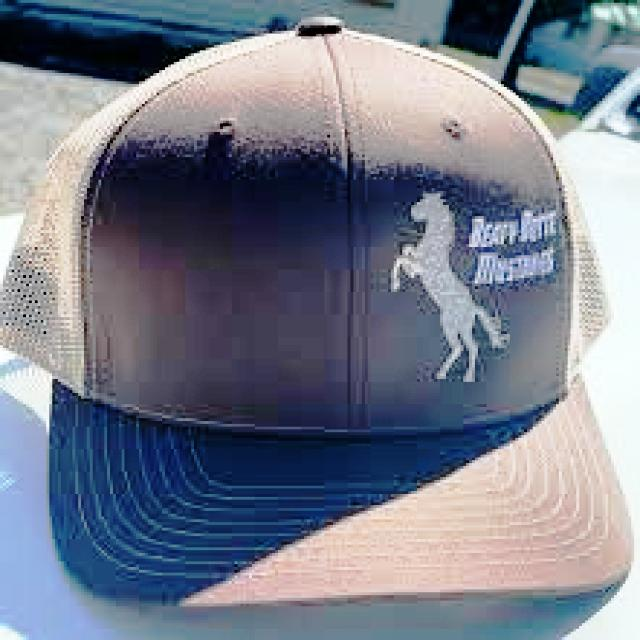TOPI: (0, 8, 634, 598)
